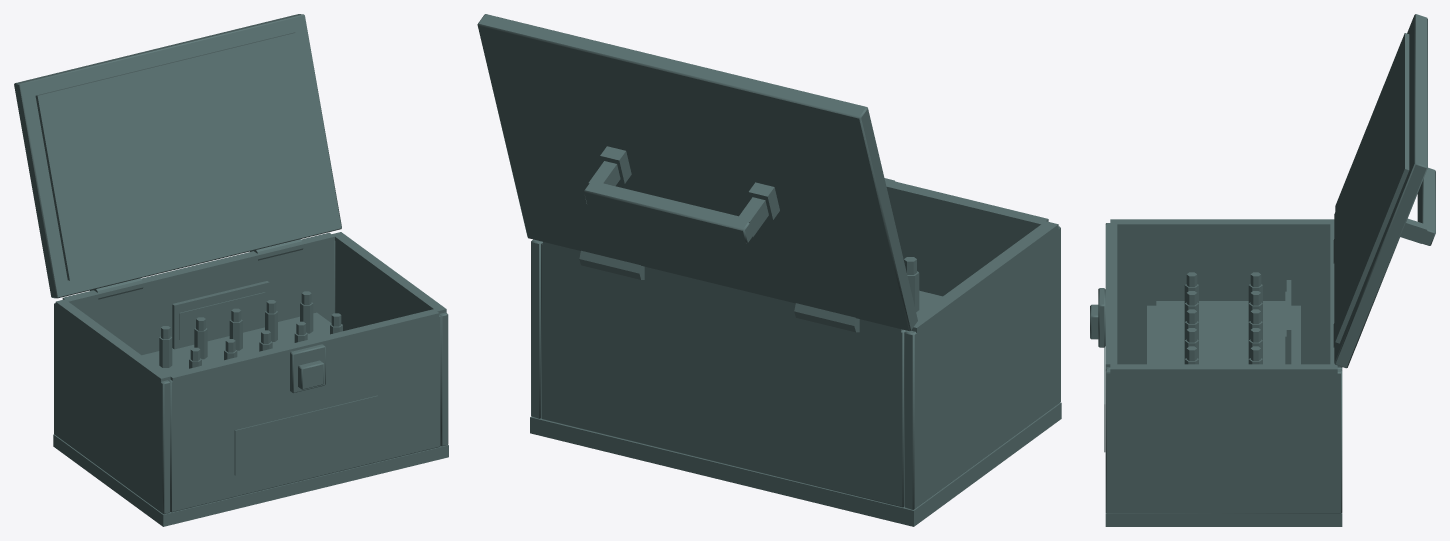
Rendered from OBJ-027_CajaMunicionPistola.fbx.
The picture shows the model from 3 angles, left to right: view 1: azimuth 30°, elevation 25°; view 2: azimuth 150°, elevation 25°; view 3: azimuth 270°, elevation 25°; orthographic projection. The views are drawn at different scales.
Visible parts, largest first — view 1: GEO-027-Case.002, GEO-027-Contents.002; view 2: GEO-027-Case.002, GEO-027-Contents.002; view 3: GEO-027-Case.002, GEO-027-Contents.002.
Part boxes in pixels (left/top/right/bottom): GEO-027-Case.002: left=14, top=14, right=448, bottom=526; GEO-027-Contents.002: left=142, top=281, right=342, bottom=373; GEO-027-Case.002: left=477, top=14, right=1061, bottom=526; GEO-027-Contents.002: left=903, top=257, right=942, bottom=314; GEO-027-Case.002: left=1090, top=14, right=1435, bottom=526; GEO-027-Contents.002: left=1147, top=272, right=1300, bottom=364.
Size of the model in its own units: 0.3 by 0.3387 by 0.2921.
